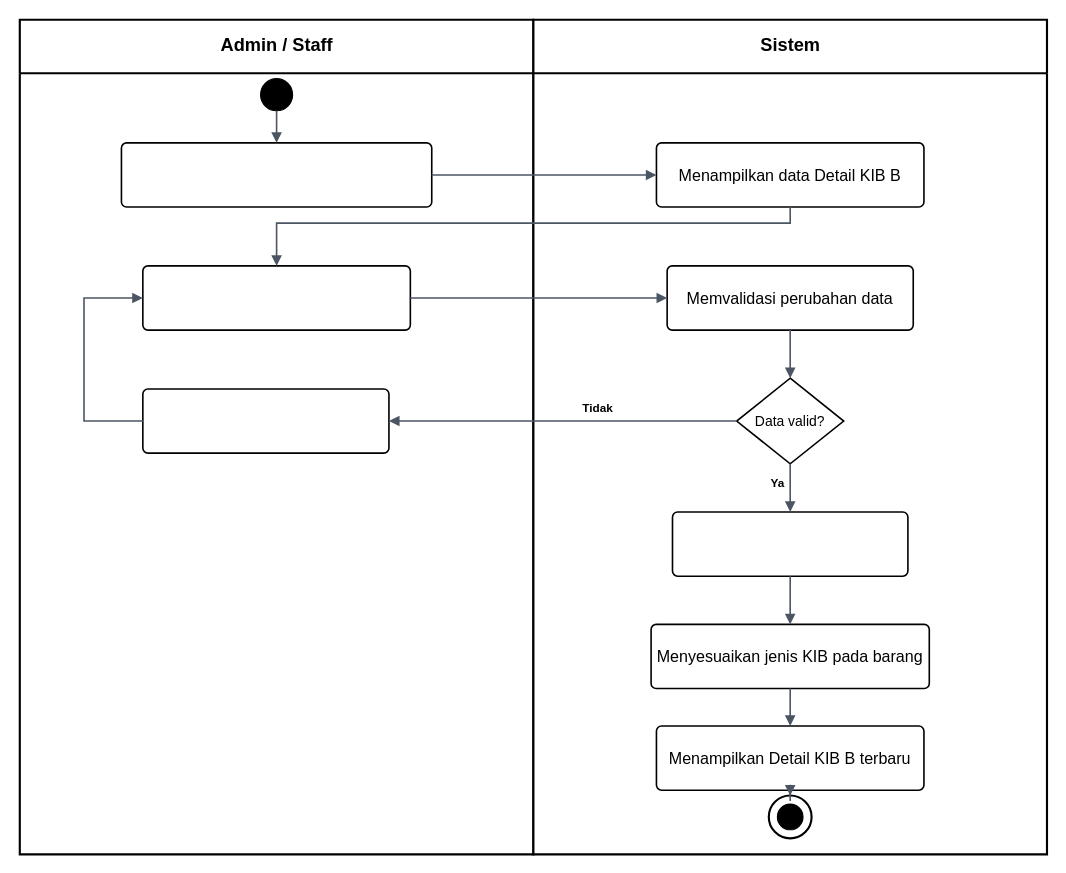
This 1066x873 diagram has some shape labels left out. Here are the shapes that lost their labels. From the top down, the centre of each, then its label:
At (276,174): "Memilih Detail KIB B yang akan diedit".
At (276,297): "Mengubah data Detail KIB B".
At (265,420): "Menampilkan pesan kesalahan".
At (789,544): "Memperbarui Detail KIB B".
